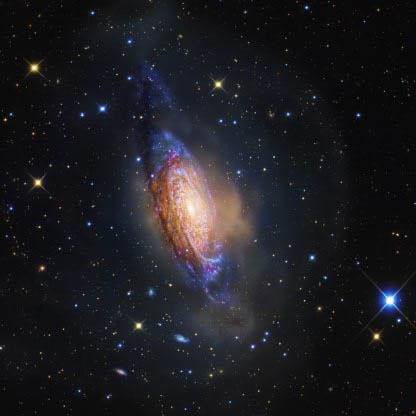NGC 3521: (86, 47, 331, 346)
